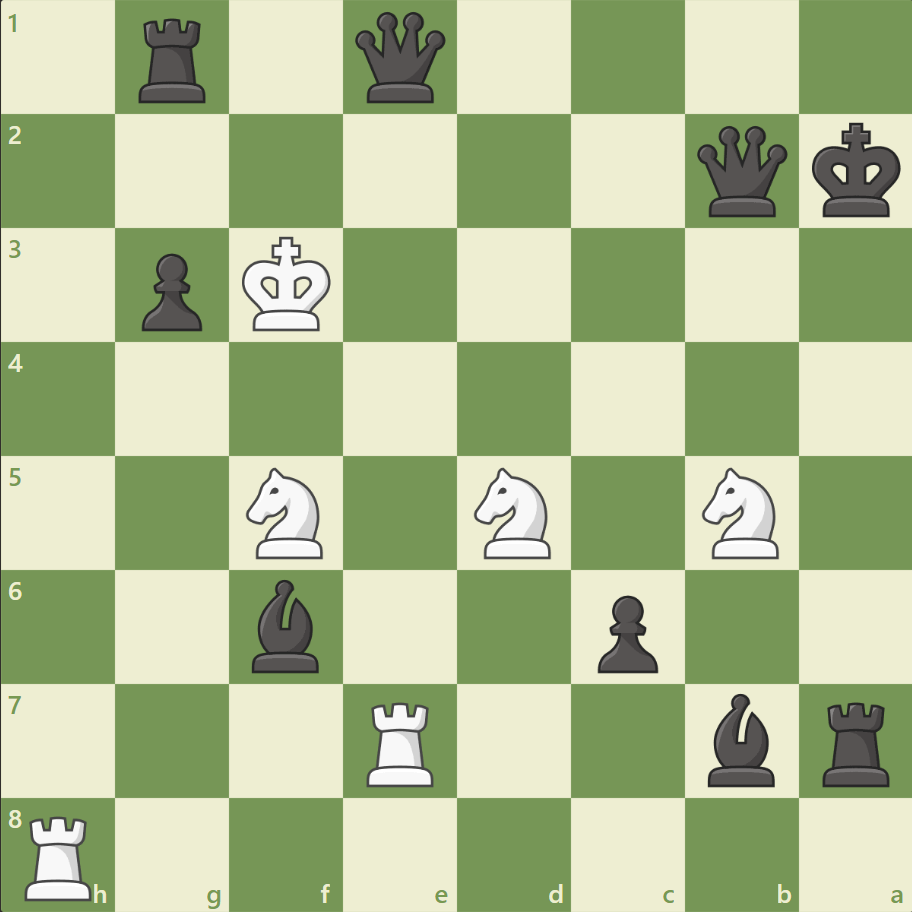K: (238, 231, 338, 339)
N: (692, 461, 789, 564), (465, 461, 562, 564), (238, 461, 335, 564)
R: (19, 806, 102, 904), (360, 693, 442, 790)
b: (698, 687, 782, 790), (244, 574, 328, 676)
k: (806, 117, 906, 225)
p: (133, 246, 208, 337), (588, 586, 662, 677)
q: (691, 122, 790, 222), (351, 9, 450, 108)
r: (814, 693, 897, 790), (133, 12, 215, 109)
